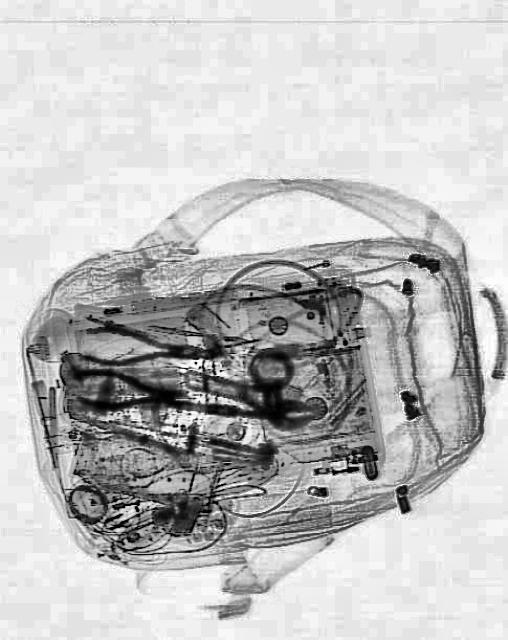Pliers: (82, 319, 224, 373), (67, 364, 189, 416)
Wrench: (217, 386, 313, 434)
